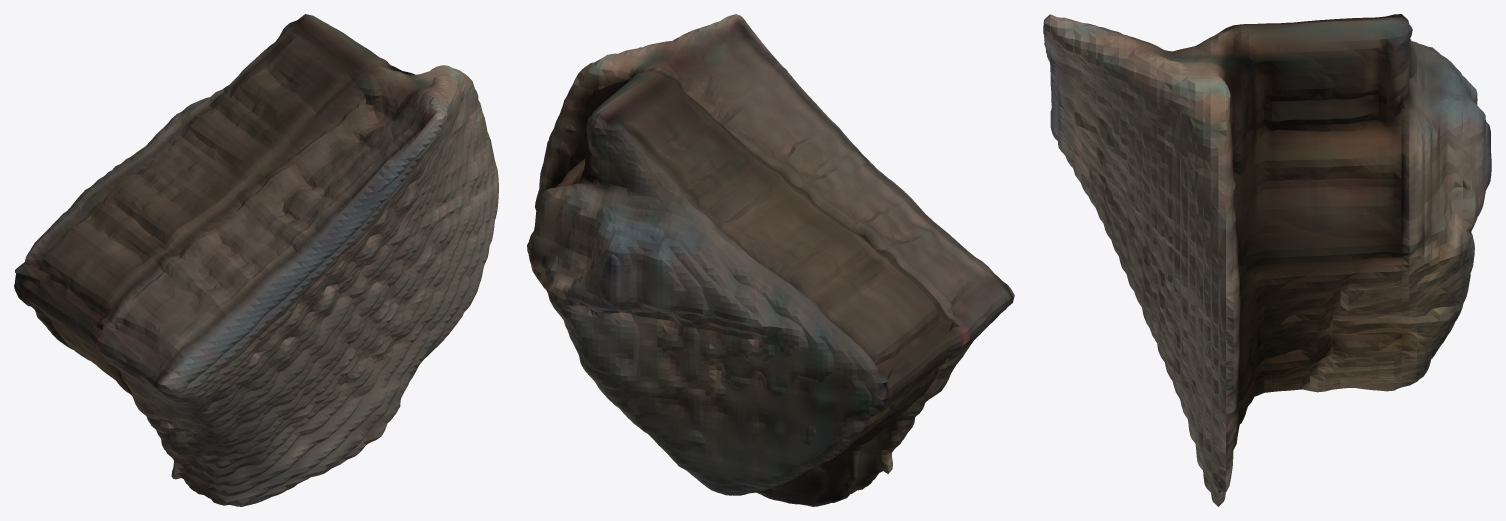
The model's file is mabeutu1716956054.obj.
3 renders of one model, left to right at view 1: azimuth 30°, elevation 25°; view 2: azimuth 150°, elevation 25°; view 3: azimuth 270°, elevation 25°, orthographic. The views are drawn at different scales.
Bounding box in the file's own units: 0.5581 × 0.5214 × 0.4002.
